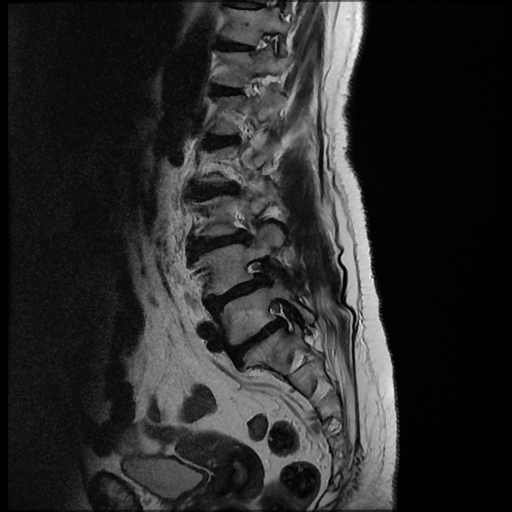LFS0: (259, 293, 309, 348)
LFS2: (239, 250, 288, 296)
